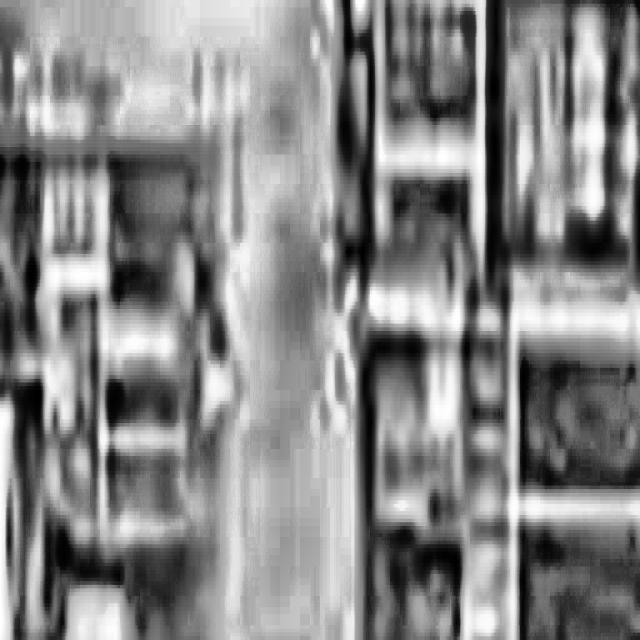dump_truck: (325, 0, 640, 640), (0, 62, 259, 640)
